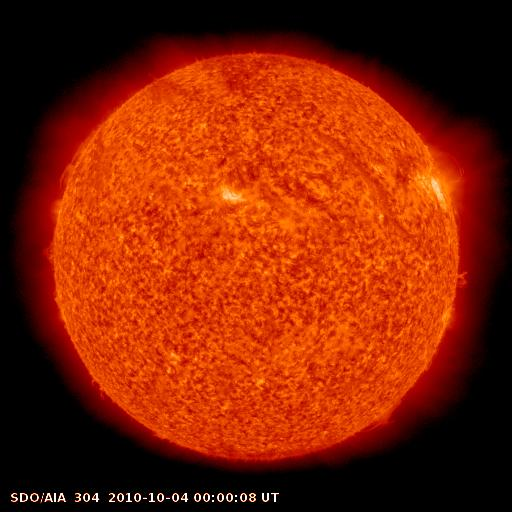prominence: (54, 121, 101, 190), (28, 221, 65, 274), (361, 397, 408, 434), (441, 263, 482, 294)
